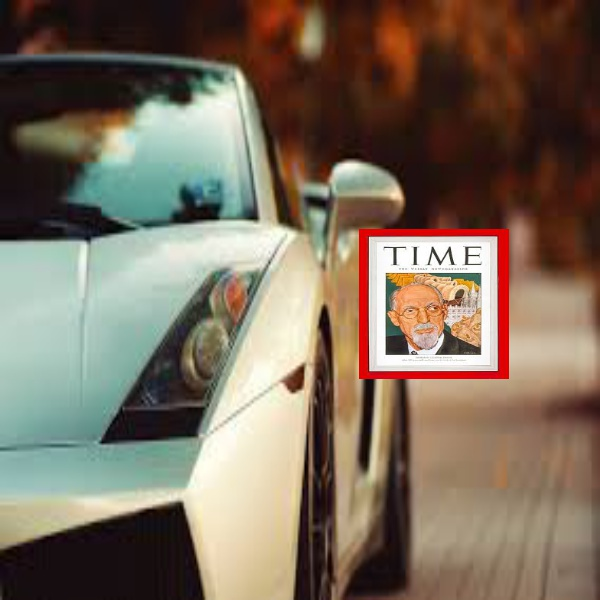time_cover: (354, 216, 517, 386)
